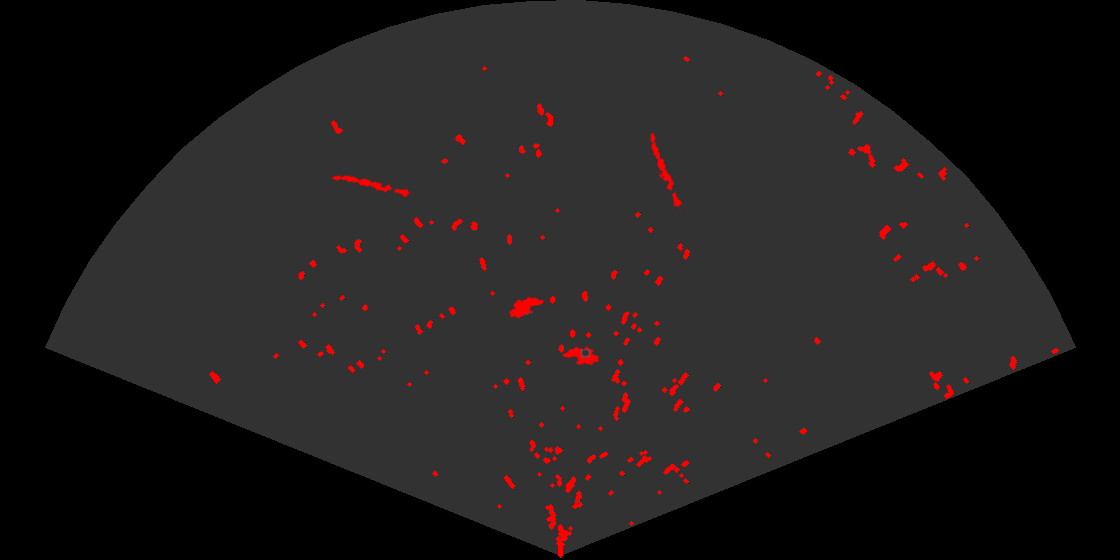AUV: (507, 295, 546, 320), (561, 345, 601, 367)
chain: (649, 131, 684, 213), (330, 174, 414, 199)
